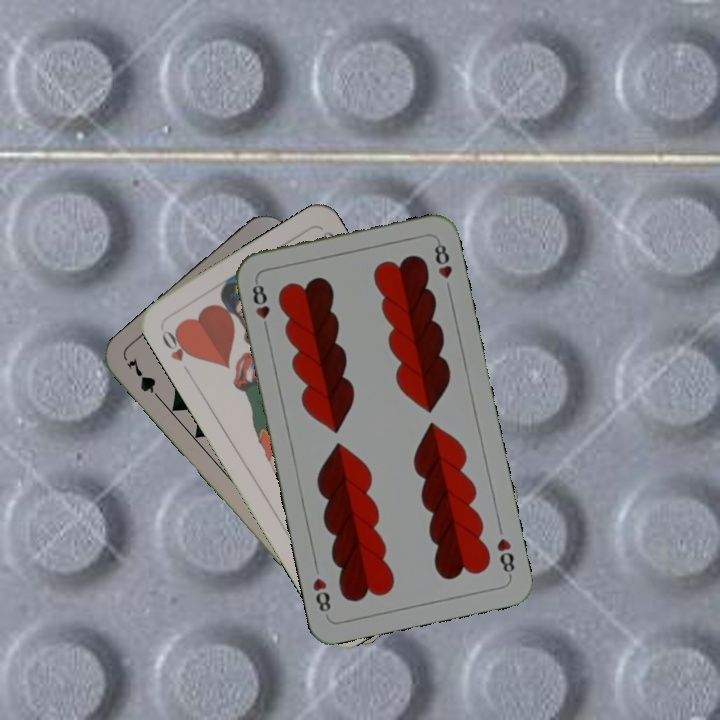G7: (122, 353, 166, 406)
H8: (248, 276, 273, 335), (492, 534, 517, 580)
HO: (157, 324, 197, 364)
